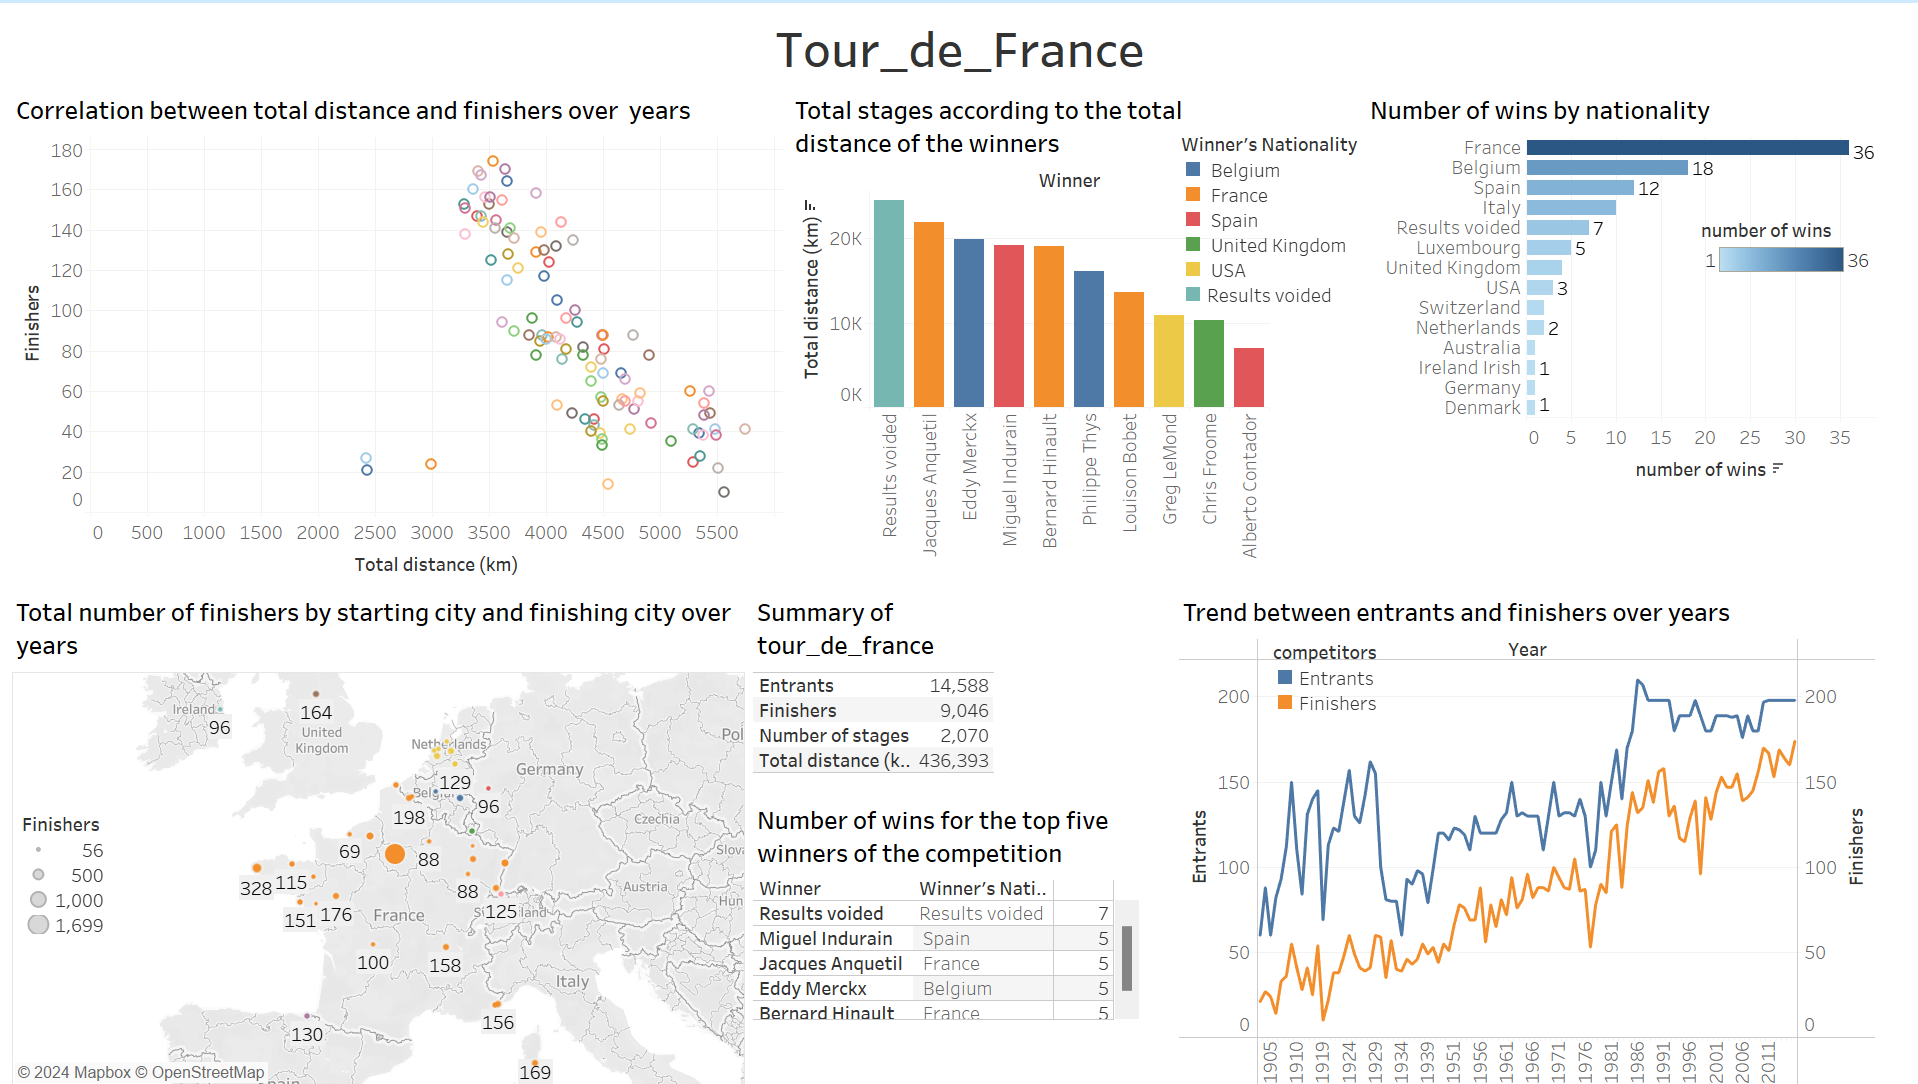

Layout of this report page (visuals, bound fields, positions):
{"tool":"tableau","page":{"name":"Tour_de_France","canvas":[1000,1000],"units":"permille","ordinal":0},"visuals":[{"type":"title","box":[5.2,9.2,989.7,85.5]},{"type":"worksheet","title":"Correlation between total distance and finishers over  years","mark":"Automatic","rows":["Finishers"],"cols":["Total distance (km)"],"box":[5.2,94.7,403.5,447.2]},{"type":"worksheet","title":"Total stages according to the total distance of the winners","mark":"Automatic","rows":["Total distance (km)"],"cols":["Winner"],"box":[408.6,94.7,297.3,447.2]},{"type":"worksheet","title":"Number of wins by nationality","mark":"Automatic","rows":["Winner's Nationality"],"cols":["Sheet1_88772527C6EA449EB1279C0BB773D8B4"],"box":[705.9,94.7,268.3,447.2]},{"type":"legend","title":"Total stages according to the total distance of the winners","param":"[federated.0n2gcdy0hmoomv1028k0y0jbr6r8].[none:Winner's Nationality:nk]","box":[614.9,116.6,92.7,197.5]},{"type":"legend","title":"Number of wins by nationality","param":"[federated.0n2gcdy0hmoomv1028k0y0jbr6r8].[__tableau_internal_object_id__].[cnt:S","box":[886,195.2,90.2,115.5]},{"type":"worksheet","title":"Total number of finishers by starting city and finishing city over years","mark":"Automatic","box":[5.2,541.9,383.4,448.8]},{"type":"worksheet","title":"Summary of tour_de_france","mark":"Automatic","box":[388.6,541.9,220.8,185.6]},{"type":"worksheet","title":"Trend between entrants and finishers over years","mark":"Line","rows":["Entrants","Finishers"],"cols":["Year"],"box":[609.4,541.9,364.9,448.8]},{"type":"legend","title":"Trend between entrants and finishers over years","param":"[federated.0n2gcdy0hmoomv1028k0y0jbr6r8].[:Measure Names]","box":[663.2,580.8,90.2,87.8]},{"type":"worksheet","title":"Number of wins for the top five winners of the compitition","mark":"Automatic","rows":["Winner","Winner's Nationality"],"box":[388.6,727.5,220.8,263.2]},{"type":"legend","title":"Total number of finishers by starting city and finishing city over years","param":"[federated.0n2gcdy0hmoomv1028k0y0jbr6r8].[sum:Finishers:qk]","box":[11.6,737.9,90.2,145.5]}]}

Visuals, with their boxes on the dashboard's canvas, which has no fixed pixel size, in thousandths of its width and height (x1, y1, x2, y2). These are canvas units, not pixel positions in the 1918x1084 screenshot, which may show the page scaled, cropped or inside an application window:
title: (5,9,995,95)
"Correlation between total distance and finishers over  years" worksheet: (5,95,409,542)
"Total stages according to the total distance of the winners" worksheet: (409,95,706,542)
"Number of wins by nationality" worksheet: (706,95,974,542)
"Total stages according to the total distance of the winners" legend: (615,117,708,314)
"Number of wins by nationality" legend: (886,195,976,311)
"Total number of finishers by starting city and finishing city over years" worksheet: (5,542,389,991)
"Summary of tour_de_france" worksheet: (389,542,609,728)
"Trend between entrants and finishers over years" worksheet (Line marks): (609,542,974,991)
"Trend between entrants and finishers over years" legend: (663,581,753,669)
"Number of wins for the top five winners of the compitition" worksheet: (389,728,609,991)
"Total number of finishers by starting city and finishing city over years" legend: (12,738,102,883)
